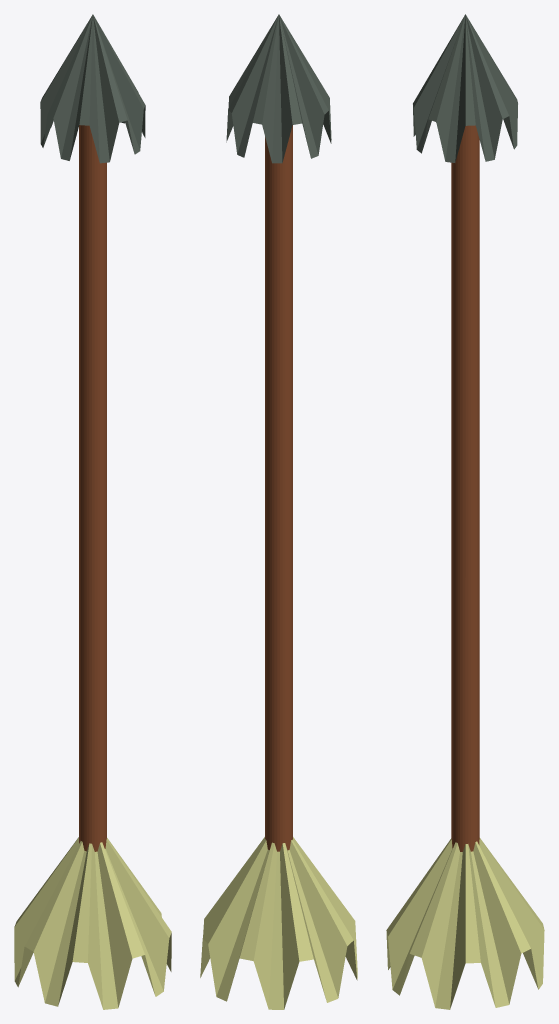
The model's file is Pilfbx.fbx.
3 views of the same model, side by side, from view 1: azimuth 30°, elevation 25°; view 2: azimuth 150°, elevation 25°; view 3: azimuth 270°, elevation 25° (orthographic).
Visible parts, largest first — view 1: Cylinder, Cone.003, Cone.002, Cone; view 2: Cylinder, Cone.003, Cone.002, Cone; view 3: Cylinder, Cone.003, Cone.002, Cone.
Boxes of the visible parts, box(x1,y1,x2,y2) form: Cylinder: box(79, 125, 106, 851); Cone.003: box(14, 837, 171, 1009); Cone.002: box(40, 14, 145, 163); Cone: box(14, 839, 171, 1008); Cylinder: box(265, 125, 292, 851); Cone.003: box(200, 837, 357, 1009); Cone.002: box(228, 14, 331, 163); Cone: box(200, 839, 357, 1009); Cylinder: box(451, 125, 479, 851); Cone.003: box(386, 838, 544, 1009); Cone.002: box(413, 14, 517, 162); Cone: box(387, 841, 543, 1009).
Size of the model in its own units: 900 by 6052 by 900.
